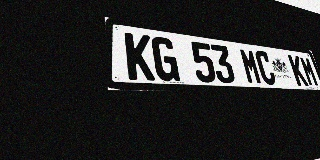3: (210, 44, 236, 83)
5: (190, 41, 217, 83)
C: (254, 50, 277, 85)
G: (151, 36, 180, 81)
K: (124, 32, 155, 80), (287, 54, 309, 86)
M: (239, 48, 263, 84), (299, 56, 319, 86)
